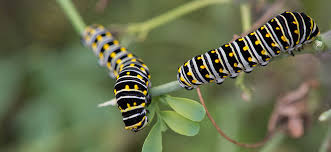Caterpillar: (176, 10, 320, 90), (79, 23, 153, 133)
